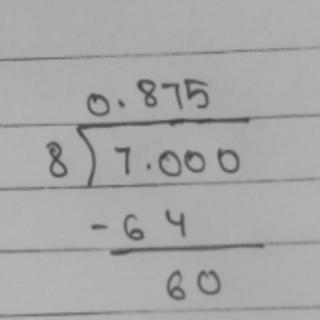.: (115, 94, 128, 108), (143, 158, 155, 171)
0: (158, 149, 185, 179), (85, 91, 110, 118), (214, 148, 241, 173), (196, 271, 223, 296), (185, 150, 205, 175)
4: (163, 207, 189, 238)
5: (183, 76, 213, 110)
6: (166, 269, 189, 302), (123, 210, 142, 242)
7: (160, 80, 186, 112), (113, 146, 132, 173)
8: (46, 138, 71, 180), (138, 79, 161, 108)
